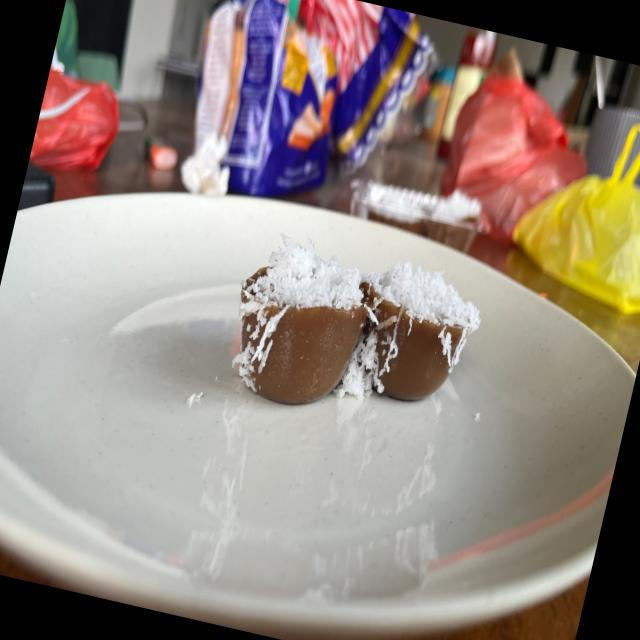Kuih lompang: (233, 234, 368, 405), (357, 262, 479, 401)
